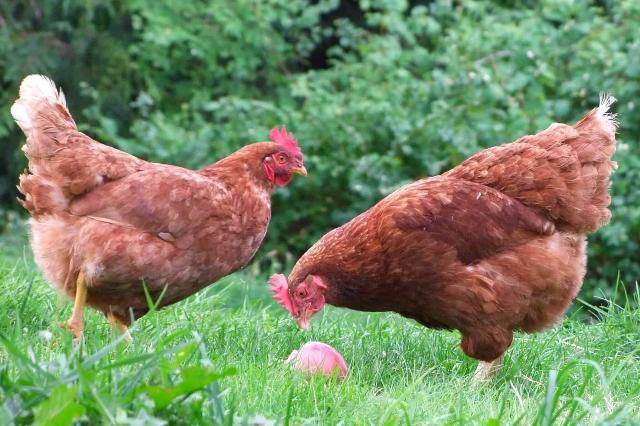Chicken: (270, 94, 622, 385), (11, 74, 309, 342)
